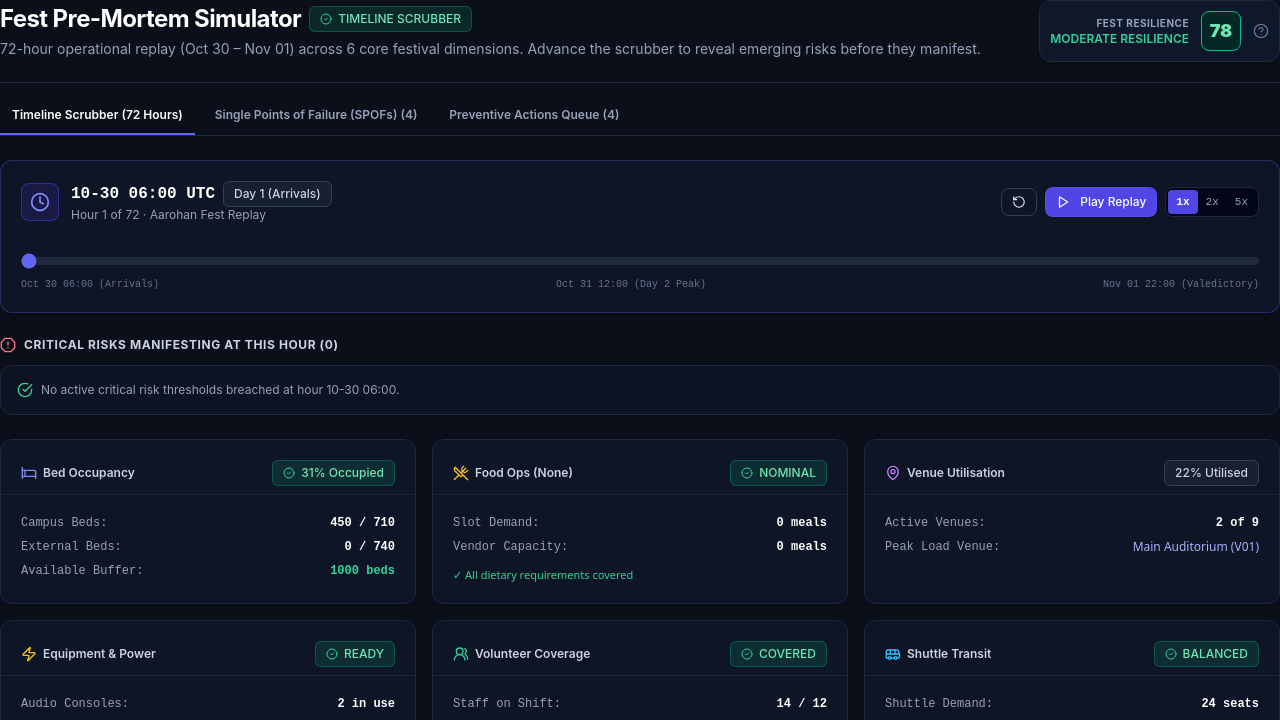
Test case: FestOS Insight & Strategic Workspaces (Prompt 18) › Fest Pre-Mortem Timeline Scrubber › advancing the scrubber slider to a critical hour reveals emerging risks in advance
Expected: the text with test id "scrubbed-time-label" shows "10-30 06:00", [71,185,177,203]
Expected: the element with test id "no-risks-banner" is shown, [0,365,1279,415]
Note: Drag scrubber to Hour 30 (Day 2 Lunch - index 30)
Set the slider with test id "timeline-slider" to "30" at x=545, y=261, box [21,257,1259,265]
(page scrolled)
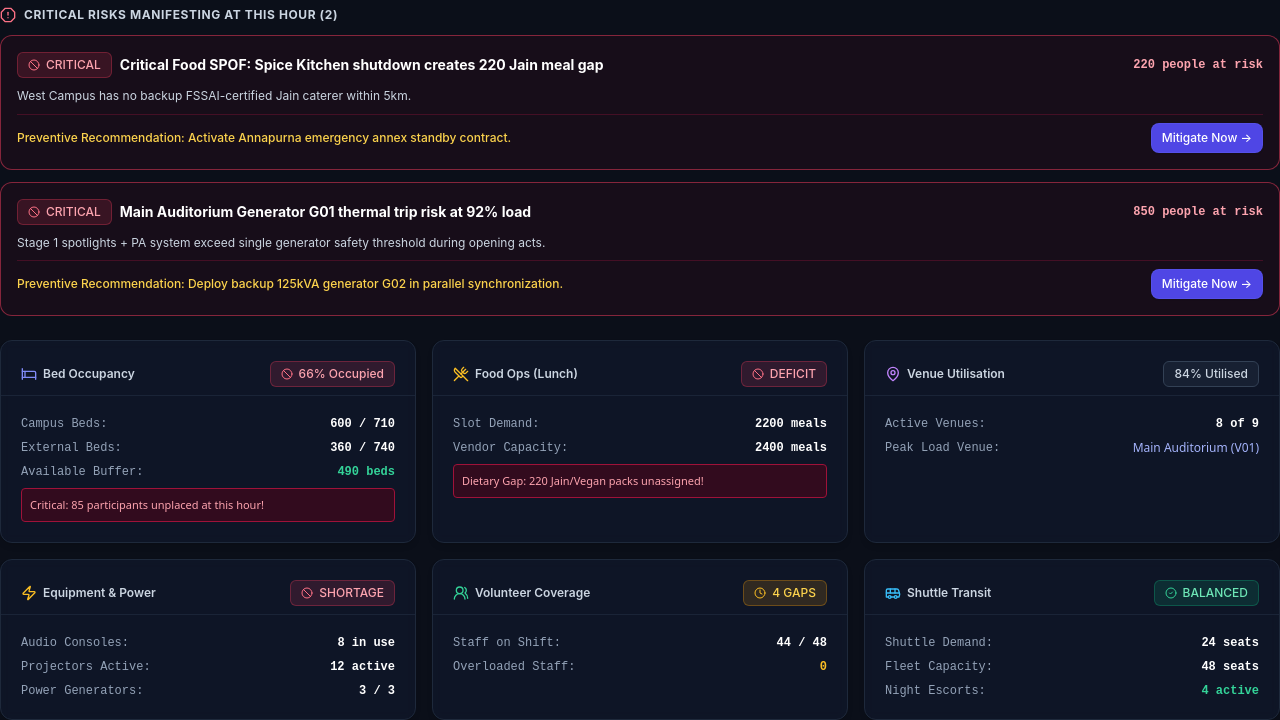
Expected: the element with test id "active-risk-risk_h30_food_spof" is shown, [0,35,1279,170]
Expected: the element with test id "active-risk-risk_h30_generator" is shown, [0,182,1279,316]
Expected: the text "Spice Kitchen shutdown creates 220 Jain meal gap" is shown, [120,56,604,73]
